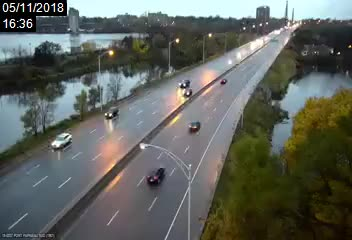personal_car: (50, 132, 72, 149), (146, 167, 165, 186), (104, 106, 120, 118), (187, 121, 201, 132), (178, 79, 190, 89), (183, 88, 194, 96), (219, 79, 227, 84)
